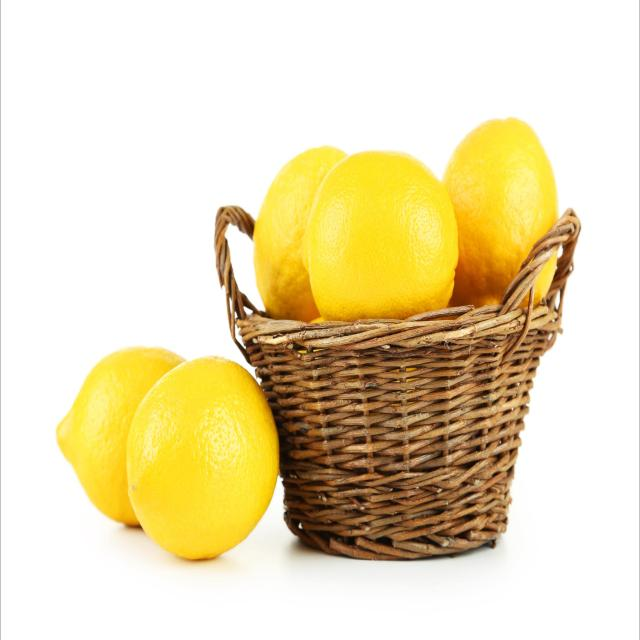lemon: (122, 353, 284, 568)
